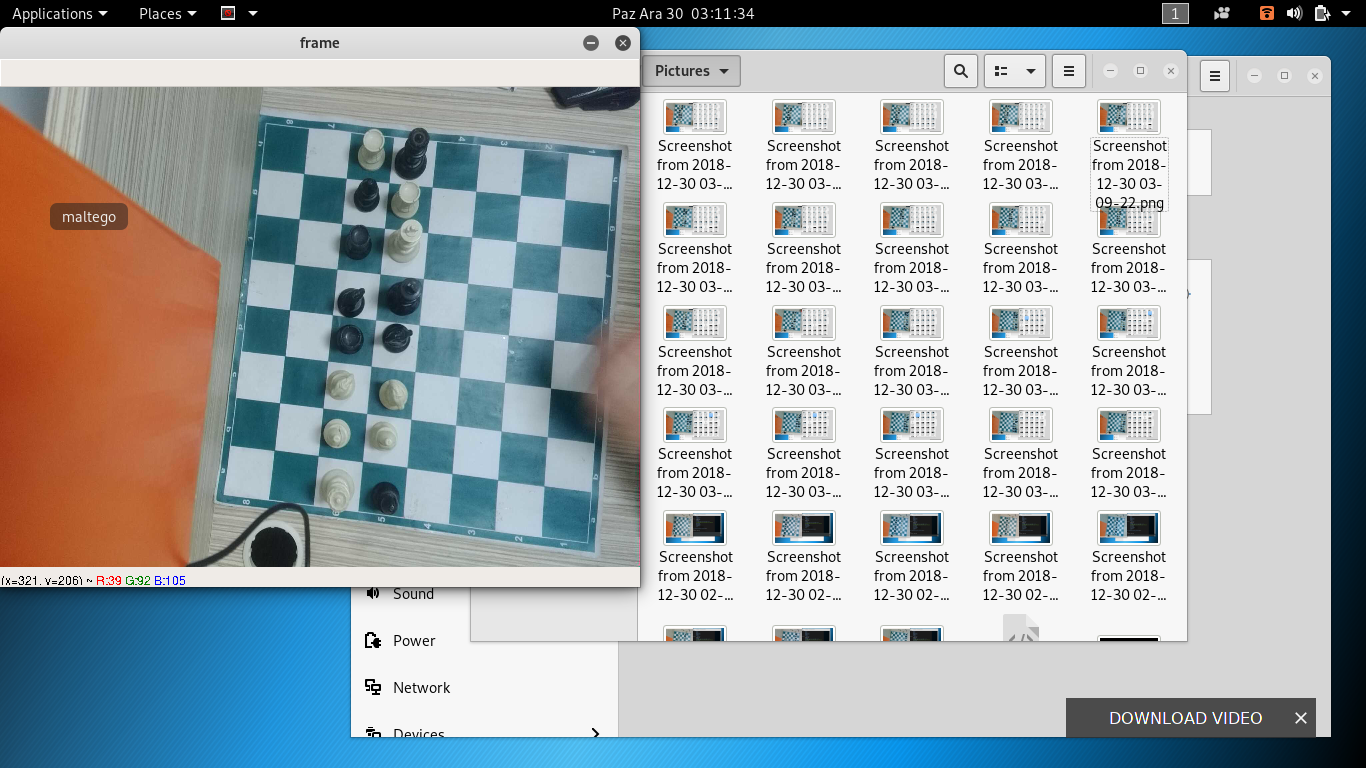BeyazAt: (379, 378, 412, 413), (325, 369, 359, 400)
BeyazFil: (323, 416, 351, 450), (368, 421, 398, 452)
BeyazKale: (357, 129, 387, 172), (389, 181, 423, 217)
BeyazSah: (385, 219, 423, 264)
BeyazVezir: (318, 467, 357, 511)
SiyahAt: (382, 321, 414, 350), (338, 287, 366, 316)
SiyahFil: (368, 482, 402, 515), (352, 176, 381, 212)
SiyahKale: (335, 322, 365, 355), (344, 224, 371, 259)
SiyahSah: (386, 277, 426, 314)
SiyahVezir: (396, 128, 430, 177)
